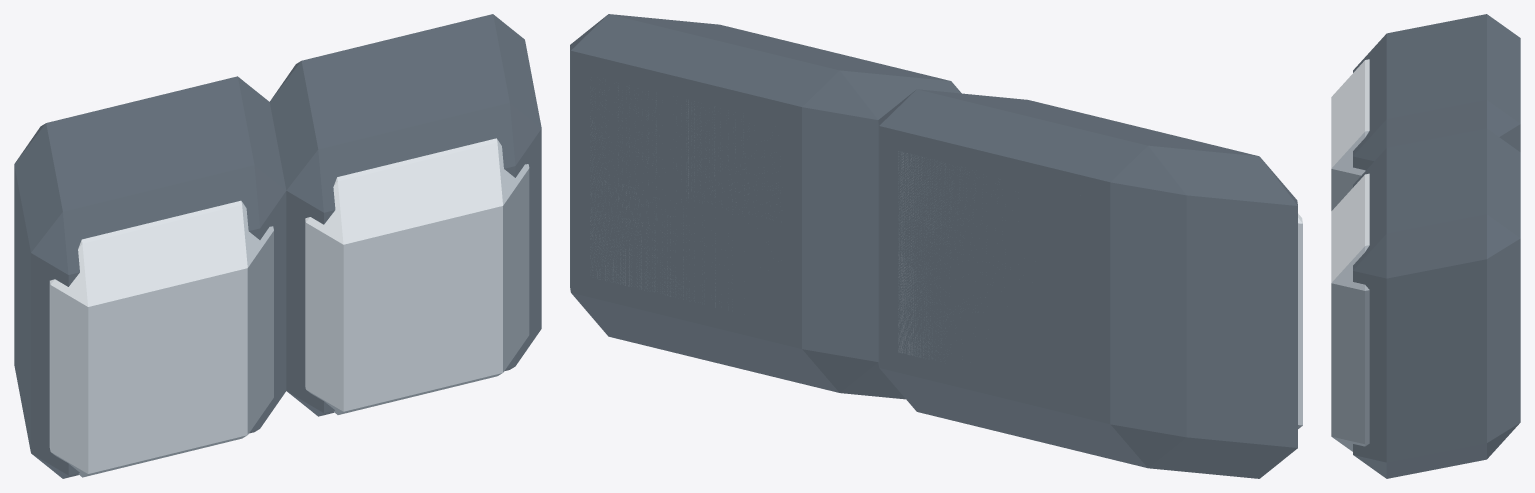
The model's file is Terrain_Block2x1.gltf.
The picture shows the model from 3 angles, left to right: view 1: azimuth 30°, elevation 25°; view 2: azimuth 150°, elevation 25°; view 3: azimuth 270°, elevation 25°; orthographic projection. The views are drawn at different scales.
Visible parts, largest first — view 1: Terrain_Block2x1_baked; view 2: Terrain_Block2x1_baked; view 3: Terrain_Block2x1_baked.
Part boxes in pixels (x1,y1,x2,y2): Terrain_Block2x1_baked: [14, 14, 541, 478]; Terrain_Block2x1_baked: [570, 14, 1302, 478]; Terrain_Block2x1_baked: [1331, 14, 1520, 478].
Bounding box in the file's own units: 2.15 × 1.15 × 0.7.
